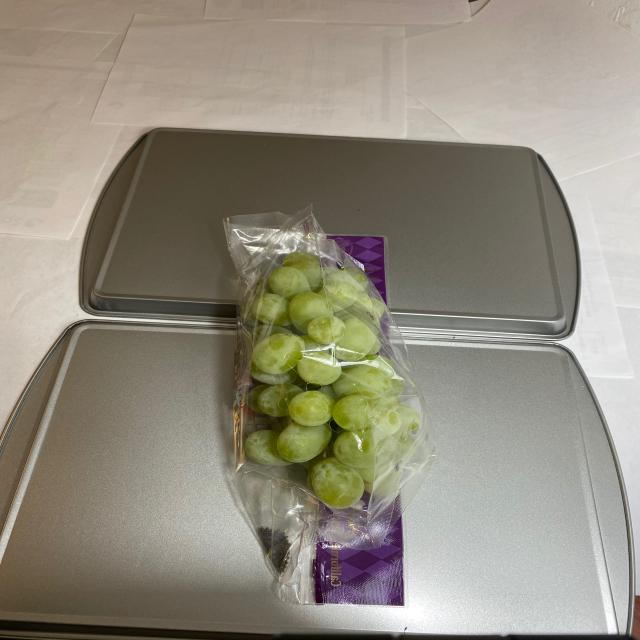grapes: (241, 240, 418, 512)
